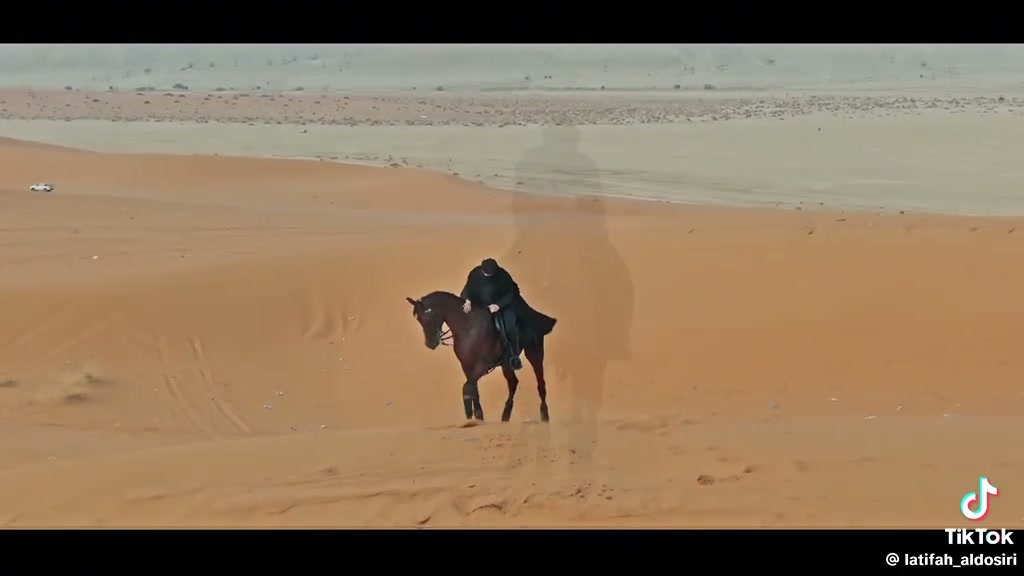animal: (406, 291, 518, 421)
human: (460, 258, 531, 369)
vehicle_track: (151, 324, 262, 446)
